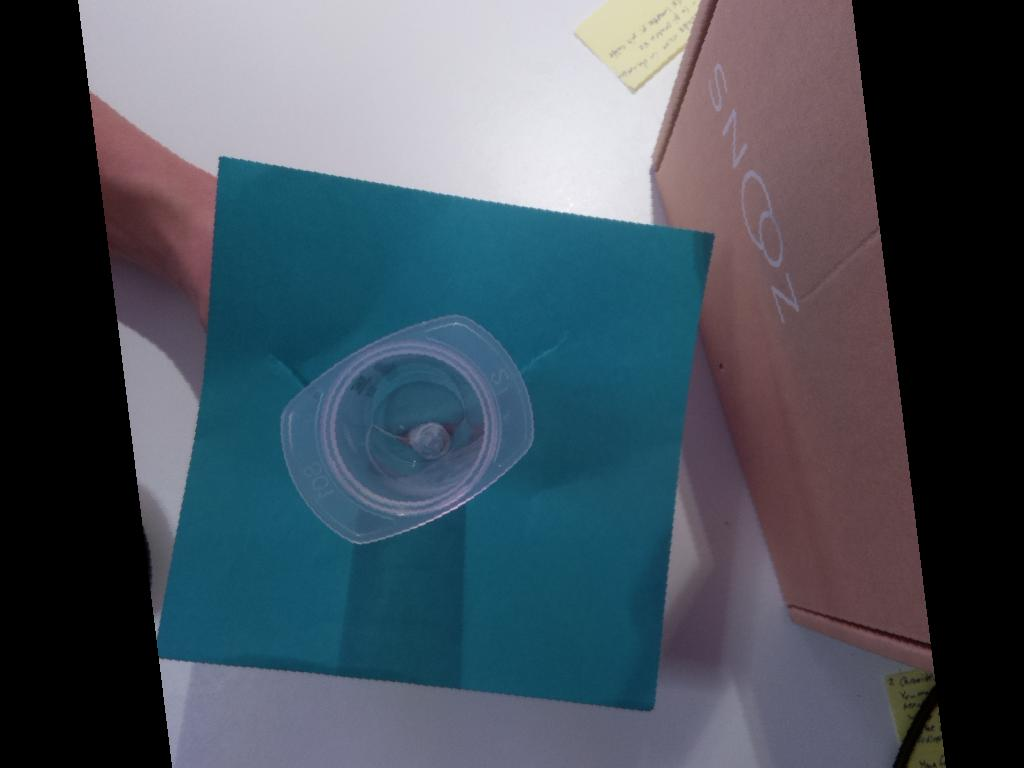clean: (277, 315, 536, 547)
